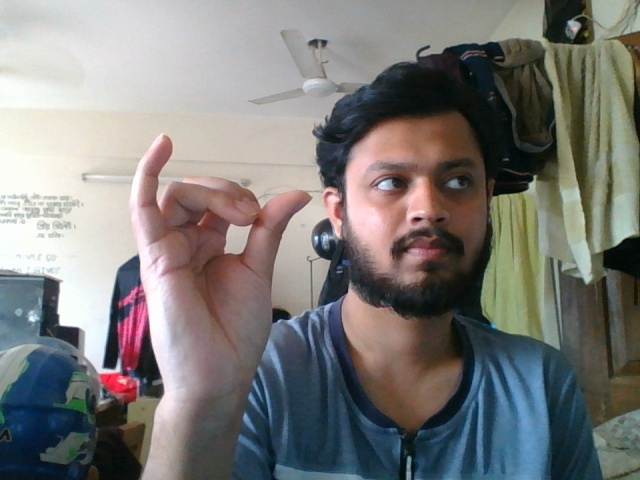oi: (123, 128, 316, 447)
